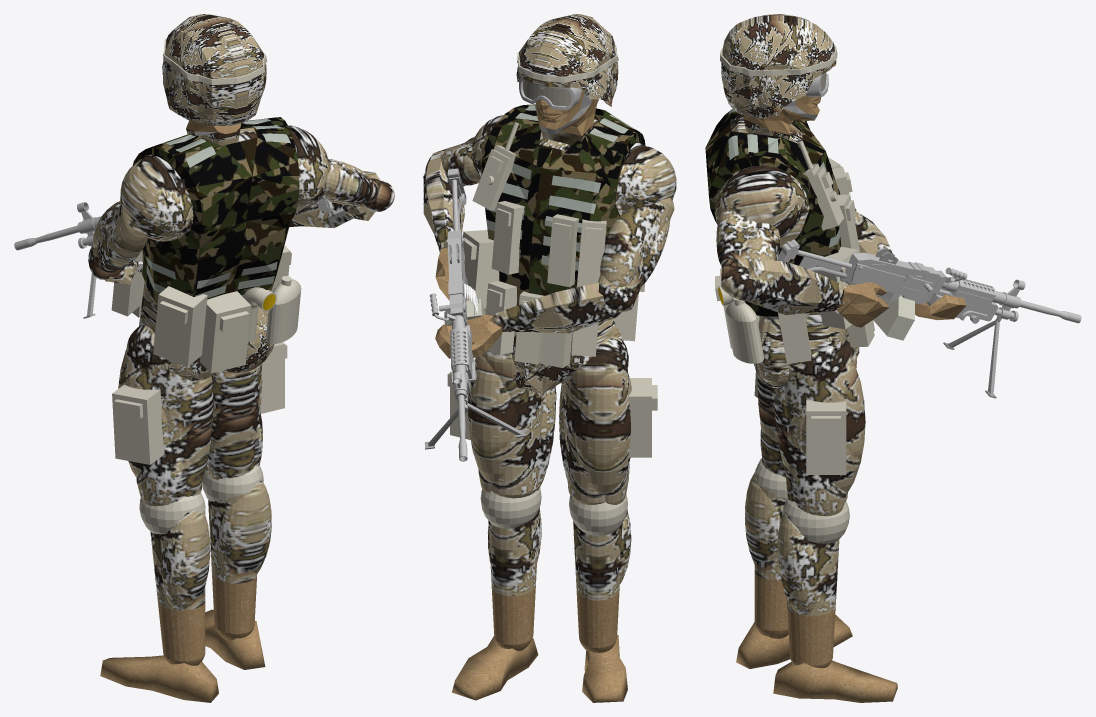
Rendered from soldier.fbx.
3 renders of one model, left to right at view 1: azimuth 30°, elevation 25°; view 2: azimuth 150°, elevation 25°; view 3: azimuth 270°, elevation 25°, orthographic. The views are drawn at different scales.
Visible parts, largest first — view 1: Object_8_mesh0, Object_6_mesh0, Object_18_mesh0, Object_21_mesh0, Object_17_mesh0, Object_23_mesh0; view 2: Object_8_mesh0, Object_6_mesh0, Object_18_mesh0, Object_21_mesh0, Object_23_mesh0, Object_17_mesh0, Object_22_mesh0, Object_12_mesh0, Object_10_mesh0, Object_11_mesh0, Object_9_mesh0; view 3: Object_8_mesh0, Object_6_mesh0, Object_21_mesh0, Object_23_mesh0, Object_18_mesh0, Object_22_mesh0, Object_26_mesh0, Object_17_mesh0, Object_11_mesh0.
Boxes of the visible parts, left/top/right/bottom form: Object_8_mesh0: left=88, top=14, right=394, bottom=610; Object_6_mesh0: left=111, top=38, right=301, bottom=534; Object_18_mesh0: left=132, top=117, right=299, bottom=303; Object_21_mesh0: left=100, top=574, right=265, bottom=702; Object_17_mesh0: left=145, top=118, right=290, bottom=298; Object_23_mesh0: left=14, top=198, right=332, bottom=250; Object_8_mesh0: left=423, top=14, right=676, bottom=600; Object_6_mesh0: left=447, top=45, right=657, bottom=535; Object_18_mesh0: left=481, top=104, right=645, bottom=303; Object_21_mesh0: left=435, top=247, right=627, bottom=702; Object_23_mesh0: left=429, top=168, right=476, bottom=461; Object_17_mesh0: left=485, top=105, right=634, bottom=270; Object_22_mesh0: left=424, top=201, right=524, bottom=449; Object_12_mesh0: left=535, top=90, right=590, bottom=133; Object_10_mesh0: left=523, top=79, right=571, bottom=106; Object_11_mesh0: left=539, top=99, right=598, bottom=135; Object_9_mesh0: left=519, top=77, right=582, bottom=110; Object_8_mesh0: left=714, top=14, right=893, bottom=615; Object_6_mesh0: left=715, top=44, right=874, bottom=543; Object_21_mesh0: left=736, top=282, right=966, bottom=702; Object_23_mesh0: left=777, top=239, right=1081, bottom=323; Object_18_mesh0: left=705, top=109, right=841, bottom=316; Object_22_mesh0: left=808, top=248, right=1001, bottom=398; Object_26_mesh0: left=873, top=295, right=914, bottom=340; Object_17_mesh0: left=728, top=109, right=840, bottom=247; Object_11_mesh0: left=743, top=83, right=828, bottom=134.
Size of the model in its own units: 2449 by 5965 by 3099.
Materials: 17 (4 with a texture image).
